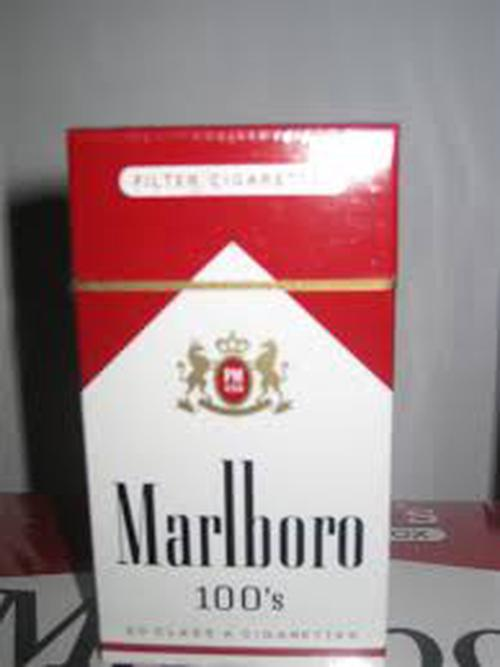marlboro: (85, 134, 383, 664)
